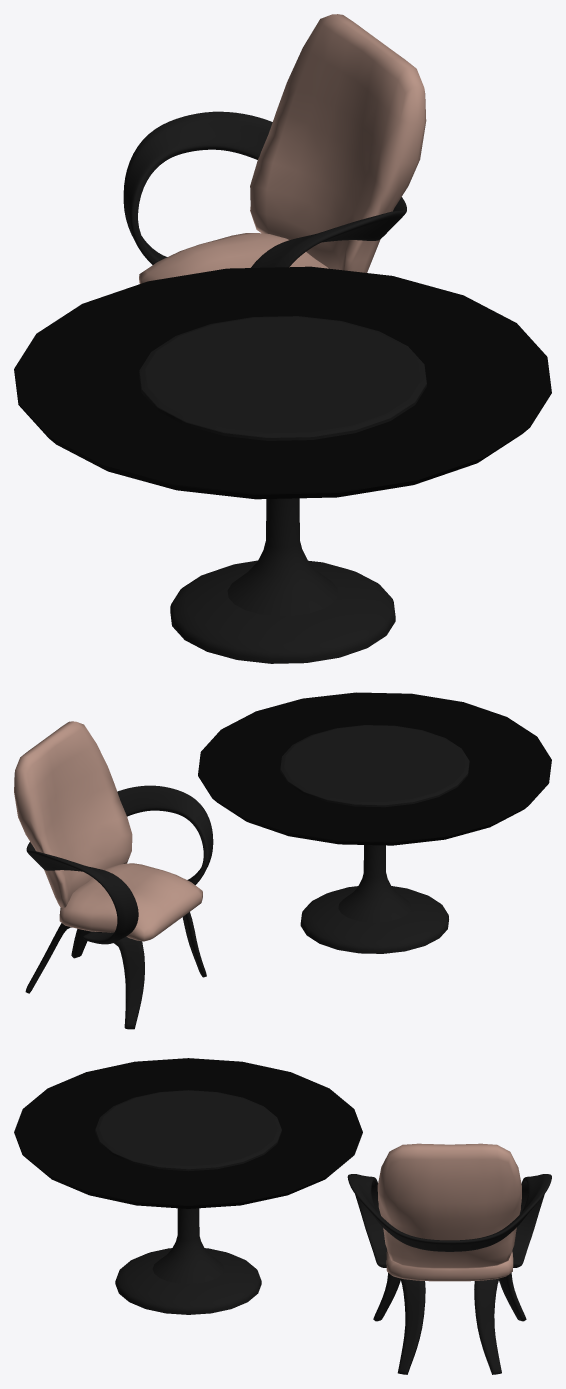
Rendered from chair_table.FBX.
The picture shows the model from 3 angles, top to bottom: view 1: azimuth 30°, elevation 25°; view 2: azimuth 150°, elevation 25°; view 3: azimuth 270°, elevation 25°; orthographic projection. The views are drawn at different scales.
Parts seen in each view (by area): view 1: table, chair; view 2: table, chair; view 3: table, chair.
Boxes of the visible parts, box(x1,y1,x2,y2) form: table: box(14, 266, 551, 663); chair: box(123, 14, 426, 283); table: box(198, 692, 551, 953); chair: box(14, 721, 213, 1029); table: box(14, 1058, 362, 1314); chair: box(347, 1143, 551, 1374).
Bounding box in the file's own units: 1.53 × 2.04 × 0.9669.
